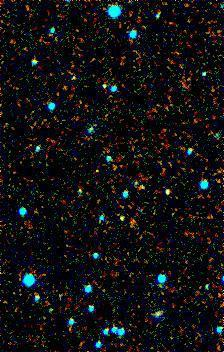star: (108, 203, 138, 233)
